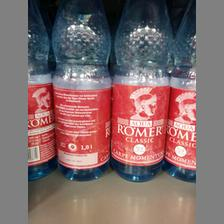Wasser: (111, 0, 172, 180), (51, 0, 111, 180), (159, 0, 195, 180), (27, 0, 55, 184)
